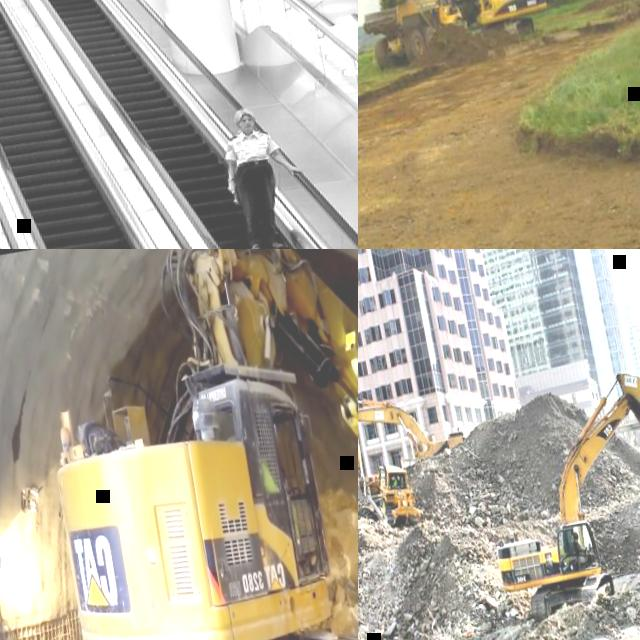NO-Hardhat: (232, 107, 254, 121), (572, 530, 578, 537)
NO-Mask: (240, 118, 254, 130)
NO-Safety Vest: (231, 128, 272, 164)
Person: (213, 98, 312, 249), (253, 437, 306, 566), (571, 528, 586, 552), (391, 475, 400, 488)
Safety Vest: (260, 461, 276, 491), (391, 479, 398, 487)
vehicle: (0, 249, 358, 640), (467, 353, 640, 631), (358, 377, 473, 506), (358, 0, 554, 73), (362, 459, 425, 531)
